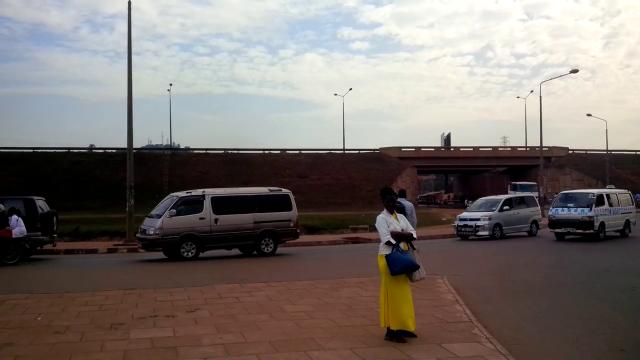truck: (507, 181, 540, 204)
van: (134, 187, 300, 260), (548, 184, 635, 242), (453, 193, 543, 239)
